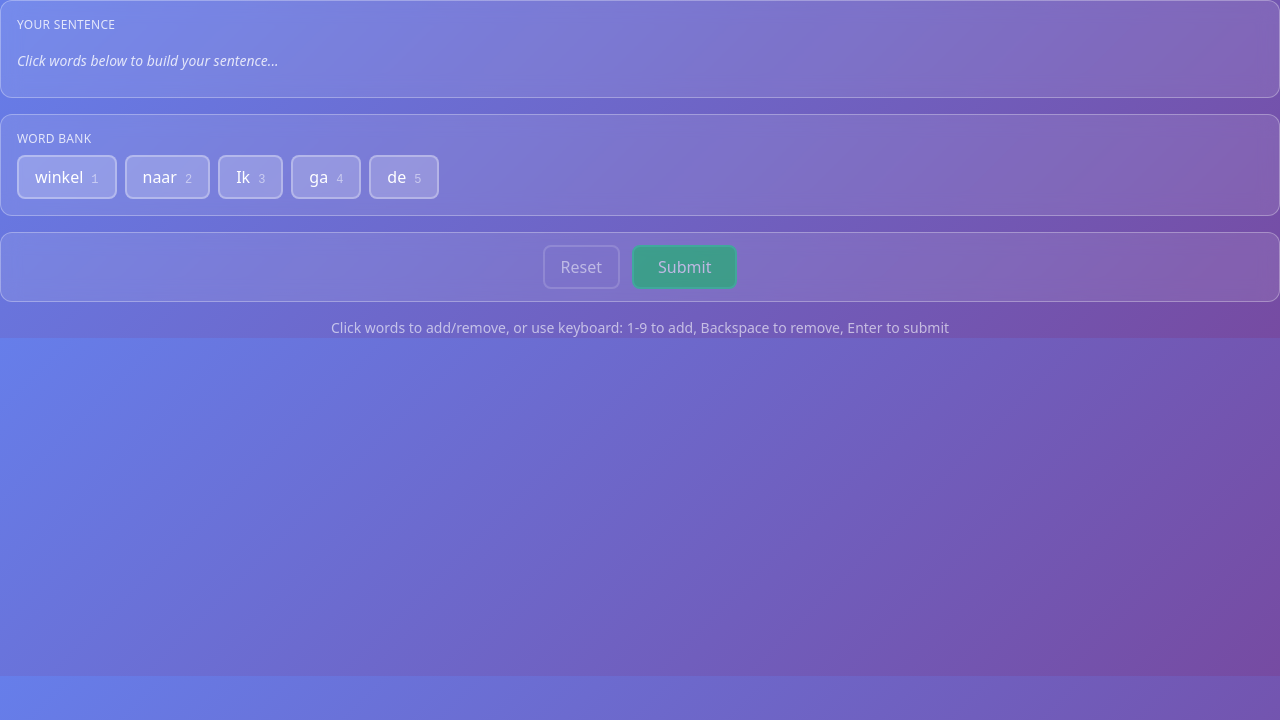
SentenceConstructionInput › word selection › should remove word from construction when clicked
Add a word
Click the text "Ik": (243, 177) [236,166,250,188]
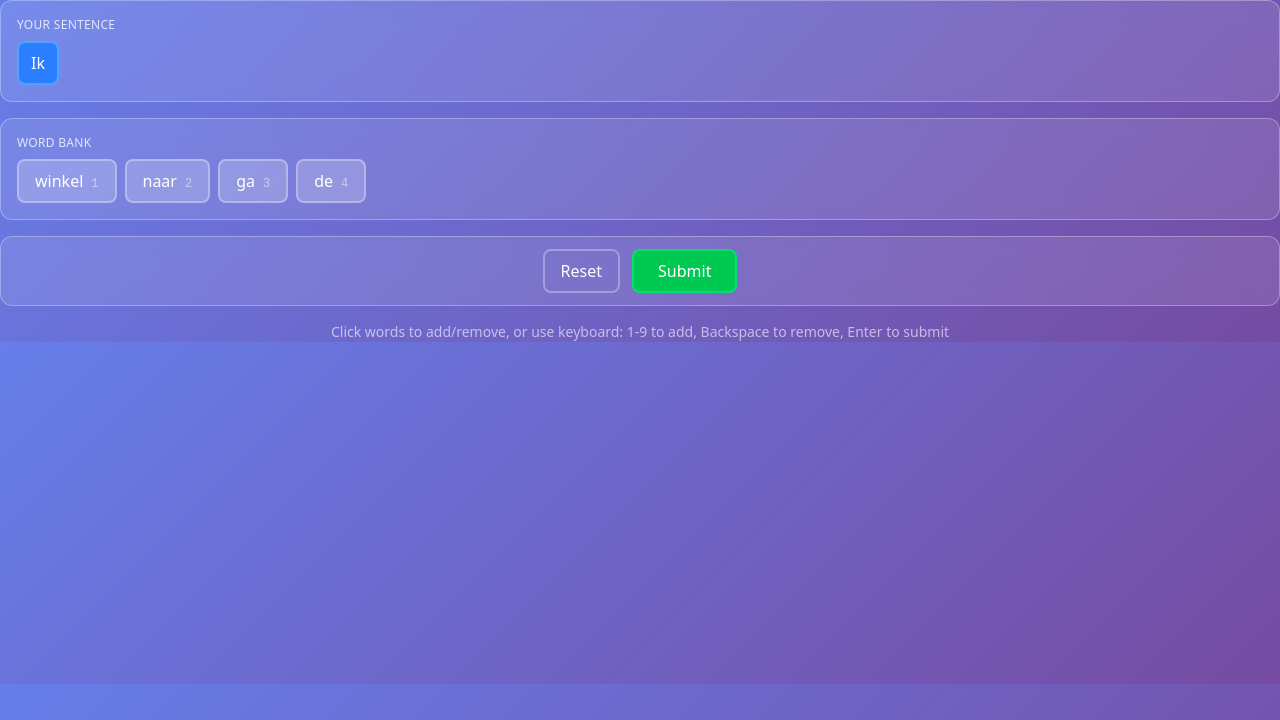
Click the button "Ik": (38, 63) [17,41,59,85]
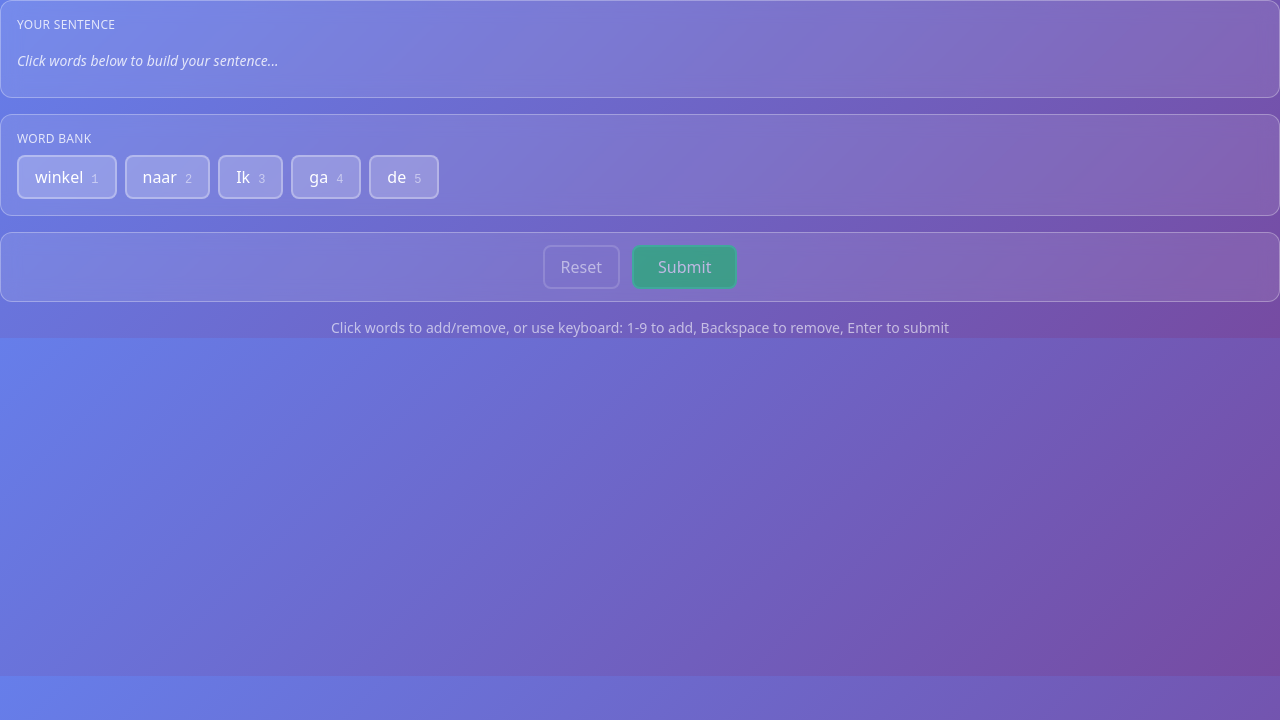
Check: the text "Click words below to build your sentence..." is shown, box [17,51,279,71]
